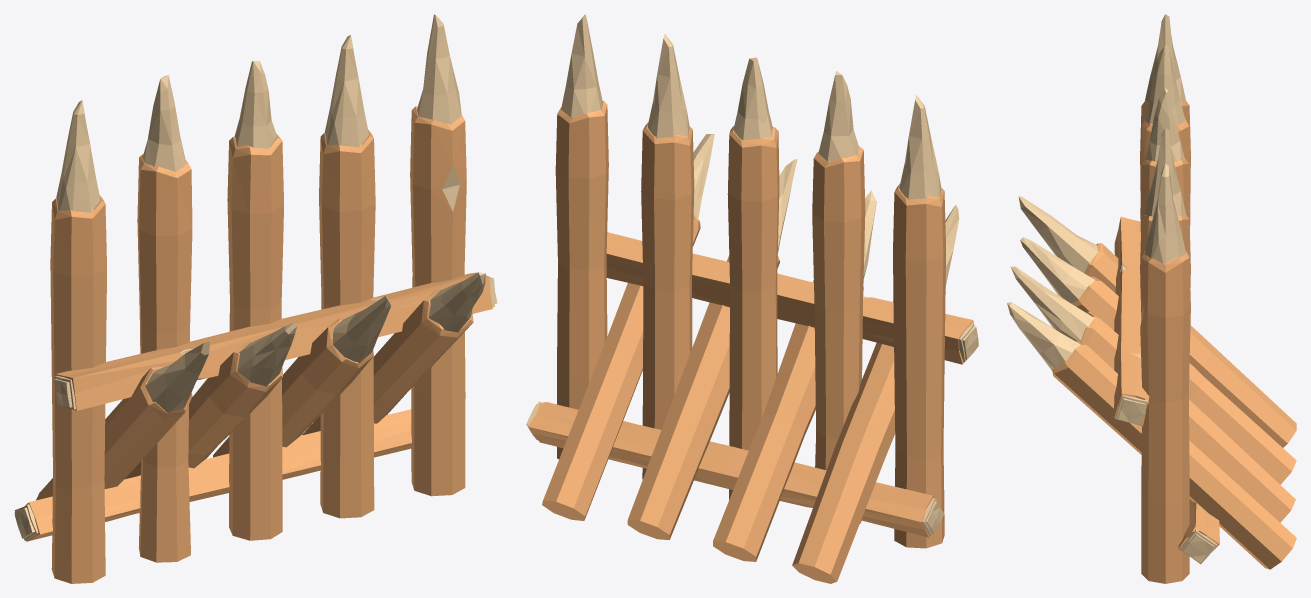
The model's file is spike.wall.02.fbx.
3 renders of one model, left to right at view 1: azimuth 30°, elevation 25°; view 2: azimuth 150°, elevation 25°; view 3: azimuth 270°, elevation 25°, orthographic. The views are drawn at different scales.
Visible parts, largest first — view 1: spike.wall.02; view 2: spike.wall.02; view 3: spike.wall.02.
Part boxes in pixels (x1,y1,x2,y2): spike.wall.02: (14, 14, 497, 583); spike.wall.02: (526, 14, 978, 583); spike.wall.02: (1007, 14, 1296, 583).
Bounding box in the file's own units: 1.54 × 1.69 × 1.04.
